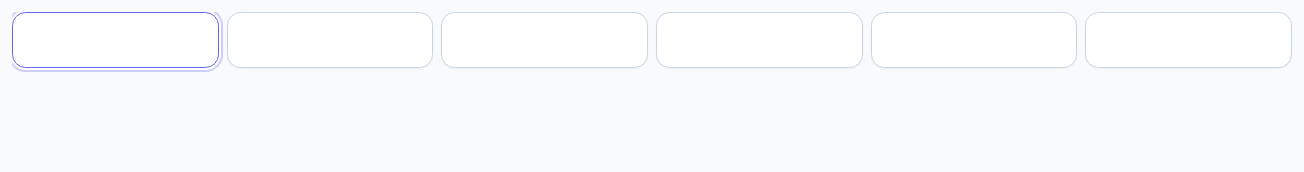
Test: OtpInput › renders one box per digit and reports the full code as it is typed
This screenshot has width=1304, height=172.
In the field named "Digit 1 of 6": (115, 40) [12,12,219,68], type "123456"
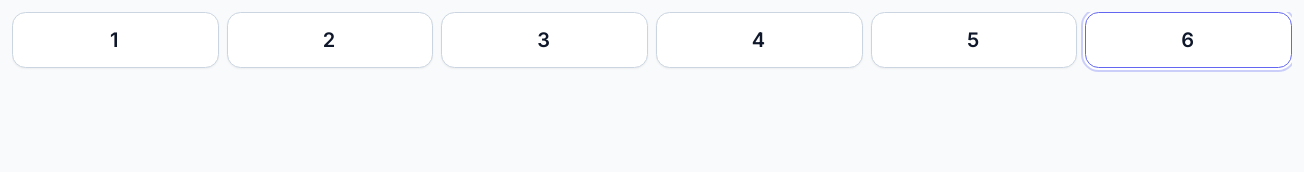
Now the field named "Digit 6 of 6" holds "6", box [1085,12,1292,68]
